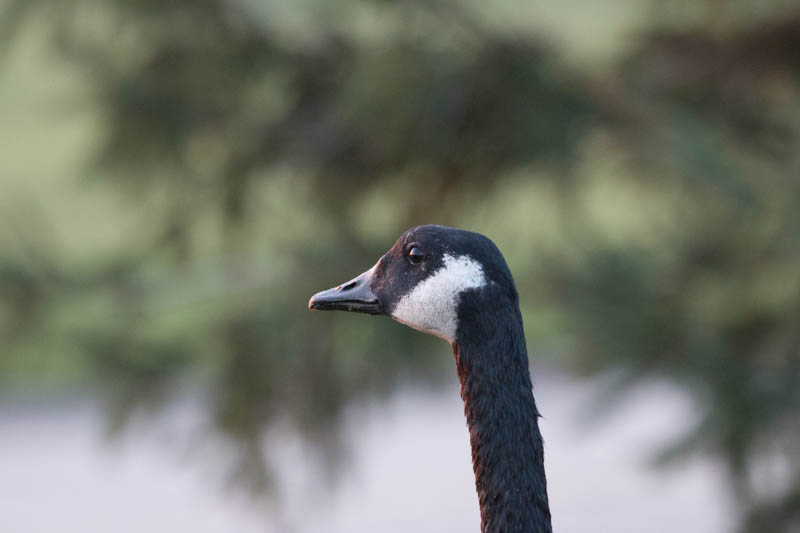goose-head: (308, 223, 526, 347)
